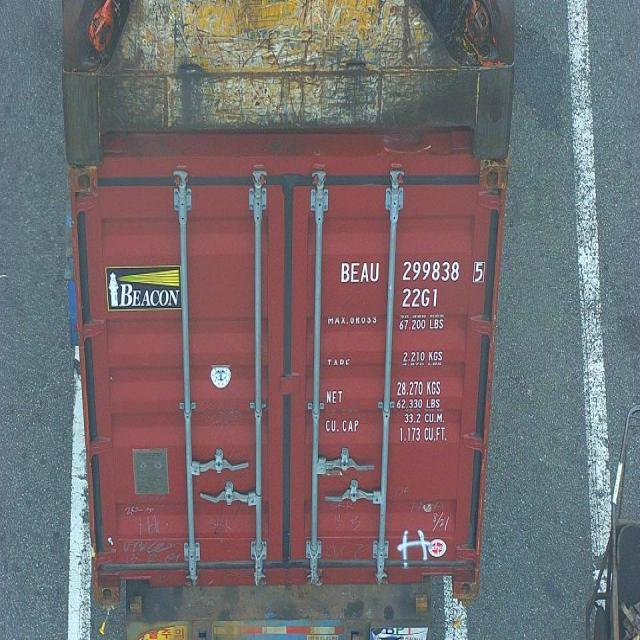ISO: (399, 286, 442, 308)
container_number: (336, 257, 491, 289)
